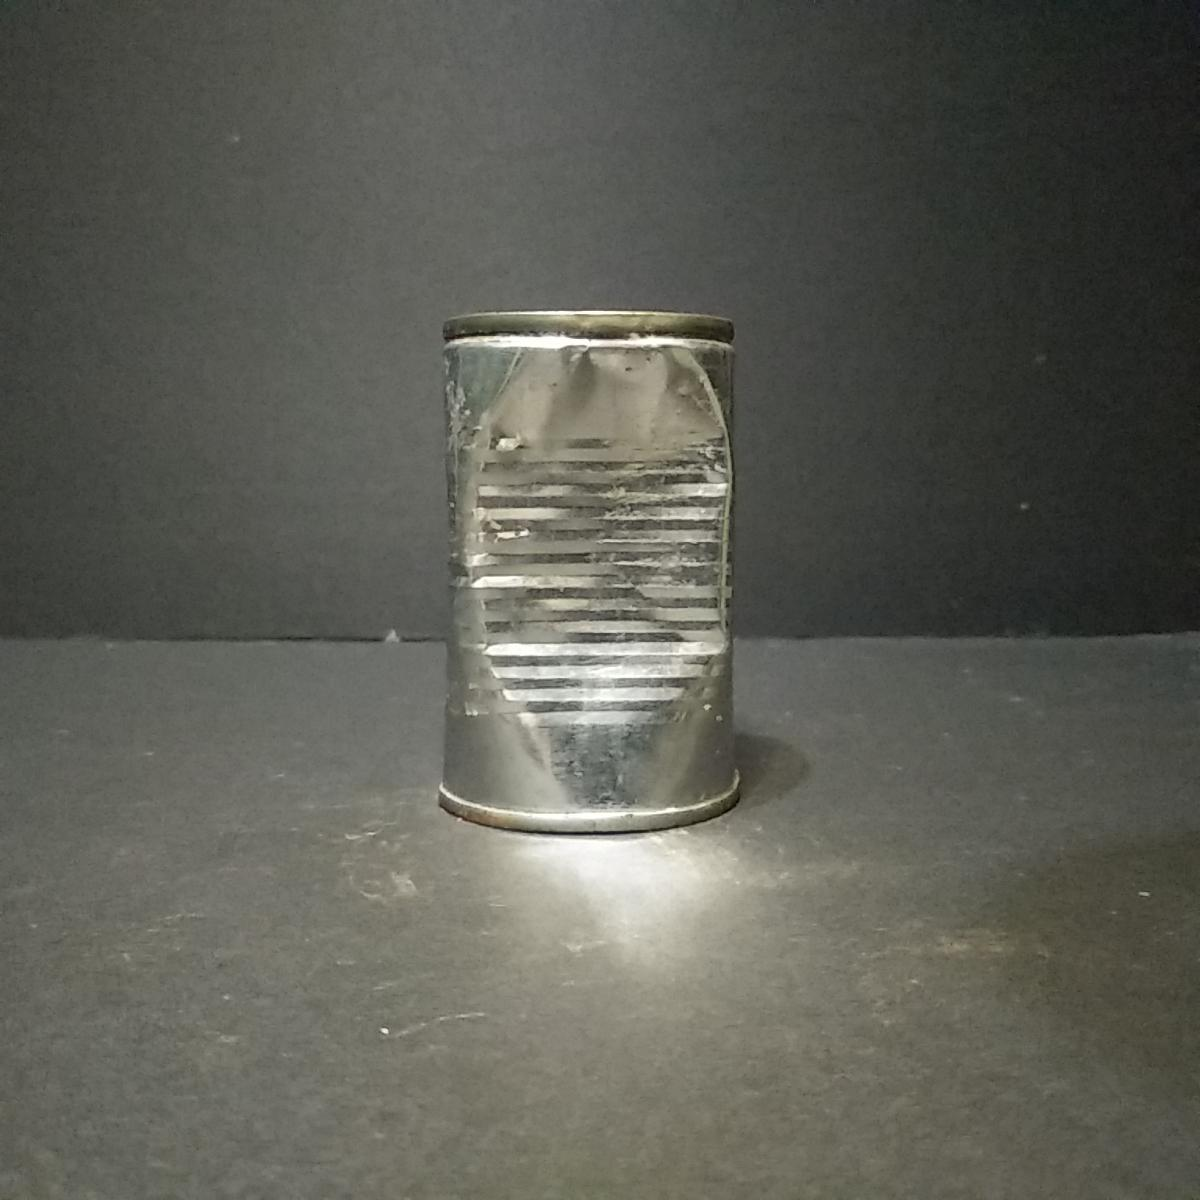Dented: (428, 294, 758, 840)
